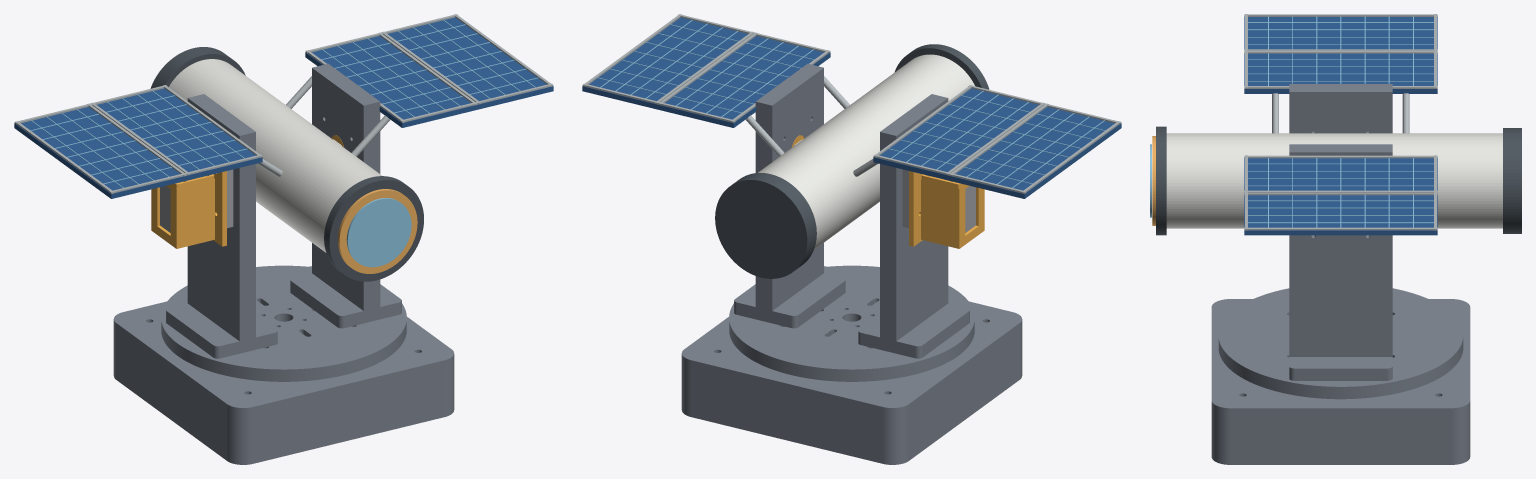
3 views of the same model, side by side, from view 1: azimuth 30°, elevation 25°; view 2: azimuth 150°, elevation 25°; view 3: azimuth 270°, elevation 25° (orthographic).
Parts seen in each view (by area): view 1: base, Approx Hubble body | 260 mm envelope, pan_deck, yoke_left, yoke_right, port solar panel 2 | blue face, starboard solar panel 1 | blue face, port solar panel 1 | blue face, starboard solar panel 2 | blue face, tilt_servo_retainer, Primary mirror | visual only, Aperture rim (+2 smaller); view 2: base, Approx Hubble body | 260 mm envelope, pan_deck, yoke_left, yoke_right, Rear equipment collar, port solar panel 2 | blue face, starboard solar panel 1 | blue face, port solar panel 1 | blue face, starboard solar panel 2 | blue face, tilt_servo_retainer, Aperture rim; view 3: base, Approx Hubble body | 260 mm envelope, yoke_right, pan_deck, starboard solar panel 2 | blue face, port solar panel 1 | blue face, starboard solar panel 1 | blue face, port solar panel 2 | blue face, yoke_left, Rear equipment collar, Aperture rim, starboard panel 2 frame rail.001 (+6 smaller).
Part boxes in pixels (x1,y1,x2,y2): base: [113, 266, 454, 464]; Approx Hubble body | 260 mm envelope: [168, 59, 381, 252]; pan_deck: [161, 265, 406, 381]; yoke_left: [166, 94, 277, 358]; yoke_right: [290, 63, 401, 328]; port solar panel 2 | blue face: [14, 107, 186, 198]; starboard solar panel 1 | blue face: [305, 36, 477, 127]; port solar panel 1 | blue face: [97, 88, 262, 180]; starboard solar panel 2 | blue face: [388, 17, 553, 109]; tilt_servo_retainer: [151, 171, 226, 248]; Primary mirror | visual only: [346, 198, 411, 267]; Aperture rim: [324, 176, 423, 281]; base: [681, 266, 1022, 464]; Approx Hubble body | 260 mm envelope: [758, 54, 974, 249]; pan_deck: [729, 265, 974, 381]; yoke_left: [858, 94, 969, 358]; yoke_right: [734, 63, 845, 328]; Rear equipment collar: [715, 173, 816, 278]; port solar panel 2 | blue face: [949, 107, 1121, 198]; starboard solar panel 1 | blue face: [658, 36, 830, 127]; port solar panel 1 | blue face: [873, 88, 1038, 180]; starboard solar panel 2 | blue face: [582, 17, 747, 109]; tilt_servo_retainer: [909, 171, 984, 248]; Aperture rim: [894, 44, 989, 89]; base: [1211, 299, 1470, 464]; Approx Hubble body | 260 mm envelope: [1166, 133, 1502, 228]; yoke_right: [1289, 144, 1392, 380]; pan_deck: [1218, 288, 1463, 399]; starboard solar panel 2 | blue face: [1244, 195, 1437, 235]; port solar panel 1 | blue face: [1244, 53, 1437, 93]; starboard solar panel 1 | blue face: [1244, 158, 1437, 190]; port solar panel 2 | blue face: [1244, 17, 1437, 49]; yoke_left: [1289, 84, 1392, 133]; Rear equipment collar: [1503, 128, 1521, 233]; Aperture rim: [1156, 126, 1166, 235]; starboard panel 2 frame rail.001: [1244, 227, 1437, 230].
Size of what is drawn, in the model's own units: 374 by 237 by 273.
